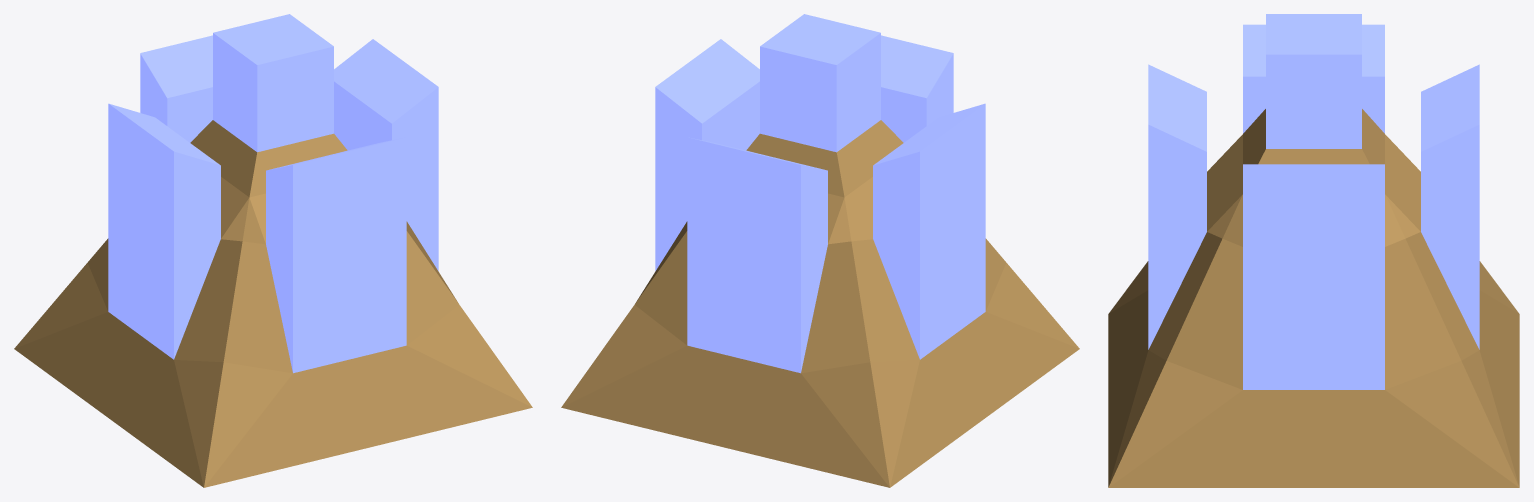
Rendered from pyramid_m_Aztec.fbx.
3 renders of one model, left to right at view 1: azimuth 30°, elevation 25°; view 2: azimuth 150°, elevation 25°; view 3: azimuth 270°, elevation 25°, orthographic. The views are drawn at different scales.
Visible parts, largest first — view 1: Cube; view 2: Cube; view 3: Cube.
Part boxes in pixels (x1,y1,x2,y2): Cube: (14, 14, 532, 487); Cube: (561, 14, 1079, 487); Cube: (1108, 14, 1519, 487).
Size of the model in its own units: 200 by 197 by 200.
